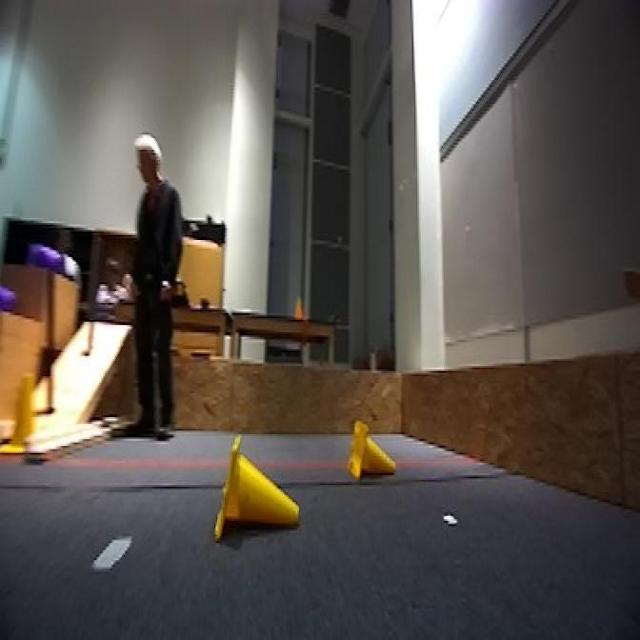frc_cone: (212, 437, 298, 543), (350, 418, 399, 482), (5, 370, 40, 454)
frc_cube: (29, 240, 75, 279), (0, 272, 21, 317)
